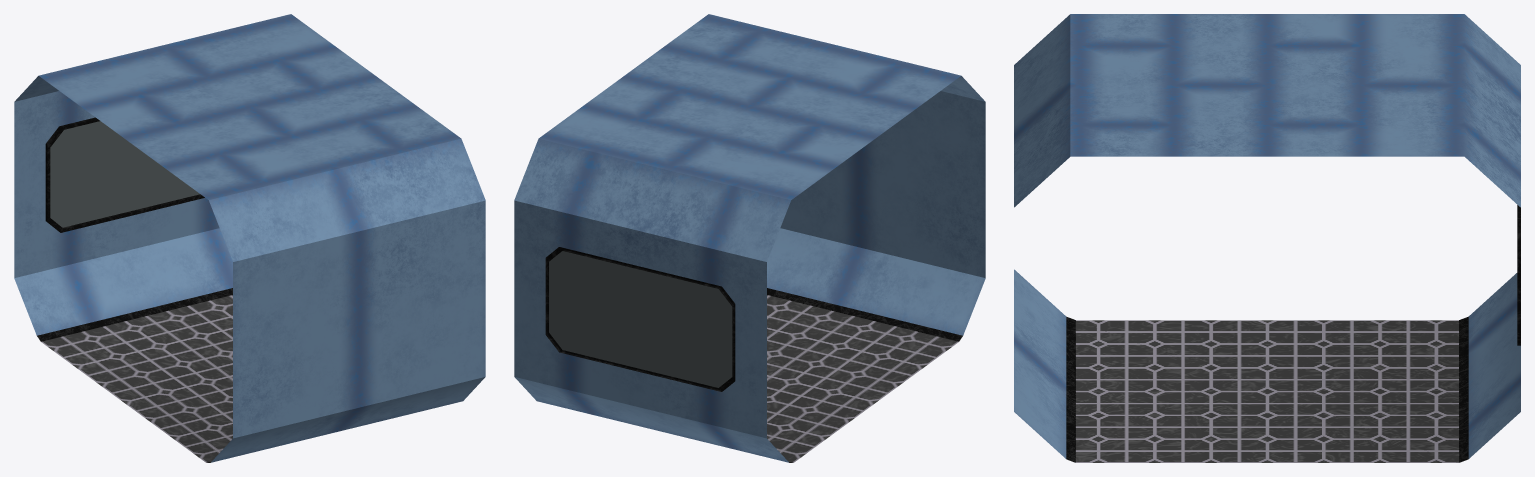
File: Hall - Window - Texture.gltf
3 views of the same model, side by side, from view 1: azimuth 30°, elevation 25°; view 2: azimuth 150°, elevation 25°; view 3: azimuth 270°, elevation 25° (orthographic). The views are drawn at different scales.
Parts seen in each view (by area): view 1: Window; view 2: Window; view 3: Window.
Boxes of the visible parts, x1,y1,x2,y2 form: Window: (14,14,485,462); Window: (514,14,985,462); Window: (1014,14,1520,462).
Bounding box in the file's own units: 2 × 2 × 3.
1 material, 1 textured.
